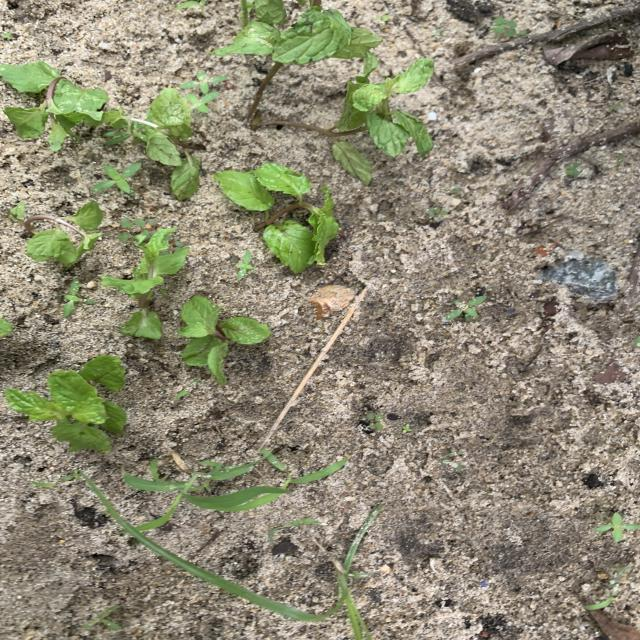crop: (295, 60, 434, 182), (216, 164, 339, 271), (7, 356, 126, 451), (213, 1, 379, 63), (102, 228, 188, 338), (1, 62, 108, 148), (180, 296, 269, 383), (144, 88, 200, 198), (12, 201, 103, 265)
weed: (86, 480, 381, 640), (123, 460, 285, 530), (224, 459, 347, 511), (93, 163, 142, 193), (595, 513, 639, 542), (269, 519, 318, 541), (64, 281, 94, 315), (118, 218, 156, 244), (208, 460, 260, 479), (447, 296, 486, 321), (180, 72, 227, 92), (106, 121, 145, 143), (82, 607, 119, 629), (493, 18, 527, 37), (187, 93, 219, 112), (237, 250, 255, 278), (261, 449, 285, 470), (175, 378, 199, 398), (361, 413, 383, 433), (177, 1, 207, 11), (428, 208, 447, 222), (566, 163, 582, 176), (30, 481, 56, 487), (376, 15, 390, 23), (445, 185, 459, 193), (402, 425, 411, 432)
